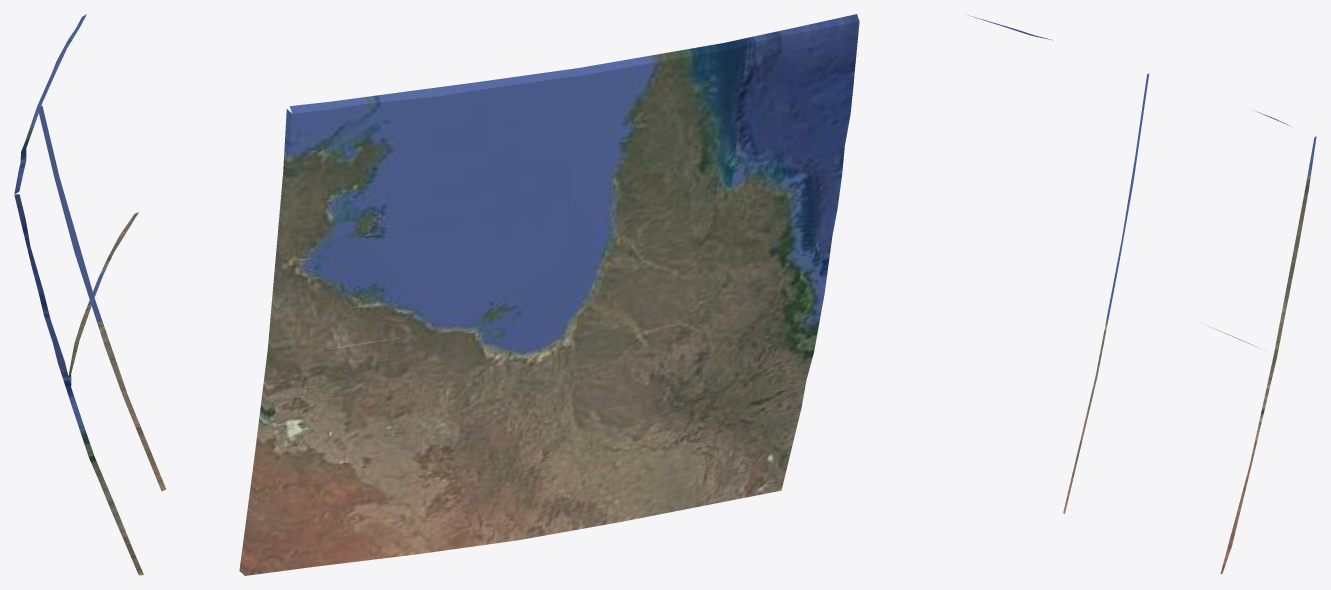
3 renders of one model, left to right at view 1: azimuth 30°, elevation 25°; view 2: azimuth 150°, elevation 25°; view 3: azimuth 270°, elevation 25°, orthographic. The views are drawn at different scales.
Bounding box in the file's own units: 1048851 × 1209212 × 1166681.
1 material, 1 textured.
